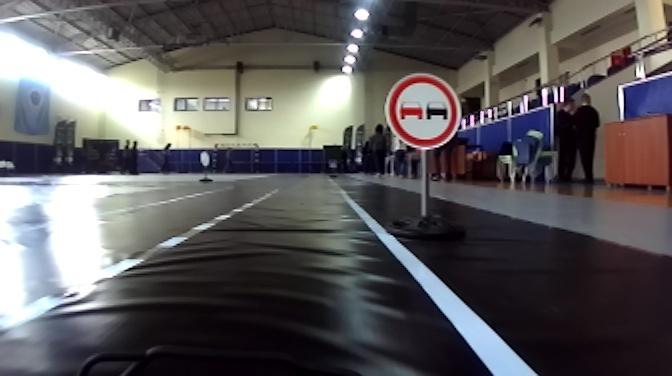sollama_yasak: (385, 75, 460, 153)
